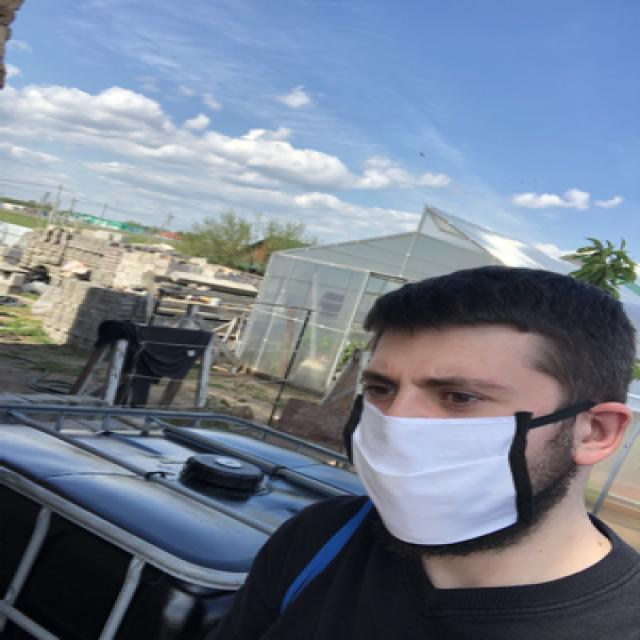with_mask: (344, 357, 544, 550)
